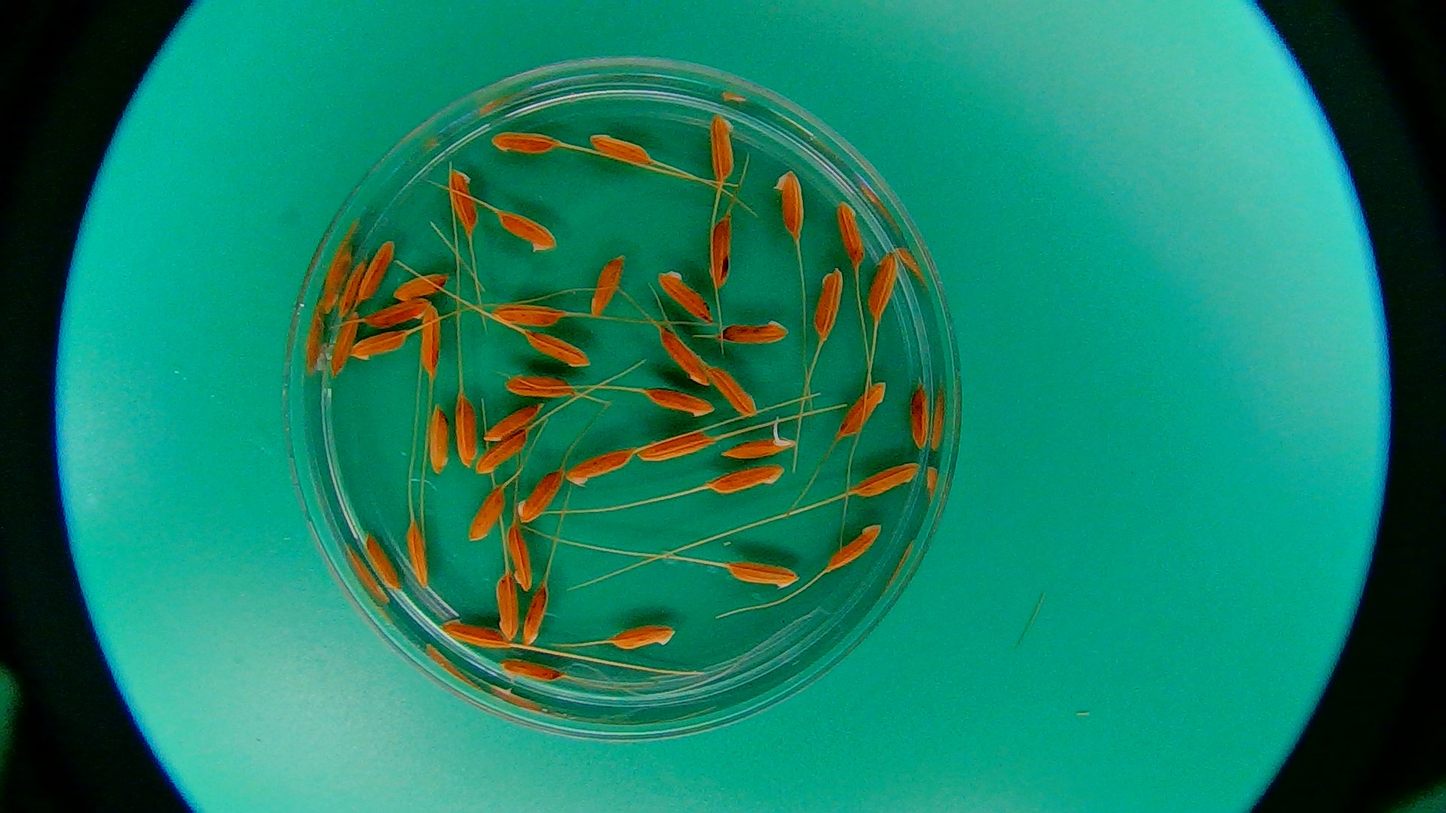no: (657, 322, 711, 389), (822, 522, 886, 574), (704, 364, 763, 420), (840, 379, 889, 443), (496, 206, 557, 257), (655, 269, 713, 321), (514, 469, 566, 526), (526, 329, 596, 371), (484, 401, 554, 443), (471, 427, 533, 474), (563, 447, 636, 486), (589, 129, 657, 170), (847, 463, 922, 500), (635, 434, 713, 468), (706, 462, 786, 495), (636, 431, 716, 464), (642, 386, 715, 421), (361, 530, 402, 592), (357, 237, 395, 303), (772, 167, 807, 238), (609, 620, 679, 655), (725, 559, 804, 590), (591, 251, 627, 319), (465, 484, 505, 545), (834, 197, 869, 264), (487, 300, 565, 330), (813, 264, 843, 341), (437, 617, 506, 650), (448, 161, 478, 235), (708, 114, 740, 183), (502, 526, 535, 592), (721, 315, 791, 346), (502, 373, 576, 402), (344, 330, 409, 363), (522, 580, 554, 647), (868, 253, 899, 322), (329, 312, 361, 377), (334, 258, 368, 319), (404, 519, 432, 592), (365, 297, 430, 328), (453, 393, 480, 467), (494, 573, 522, 642), (904, 382, 932, 451), (392, 272, 450, 302), (489, 129, 557, 154), (421, 306, 444, 378), (426, 403, 448, 477)
yes: (722, 428, 796, 458)
